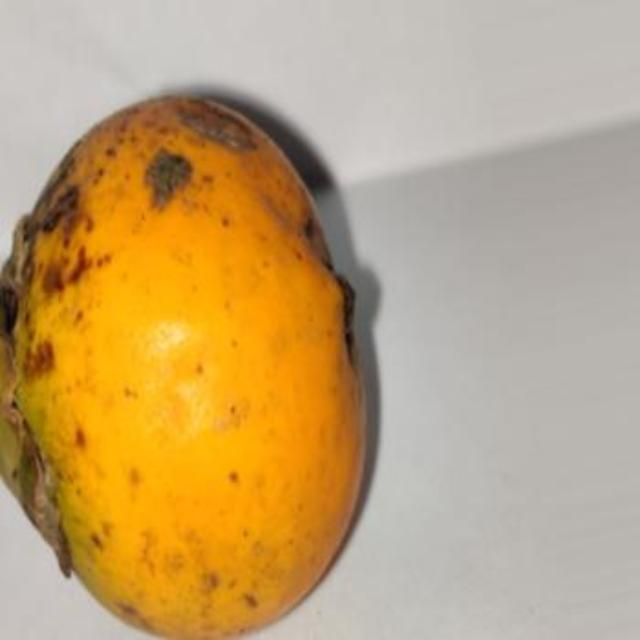good: (0, 95, 371, 638)
